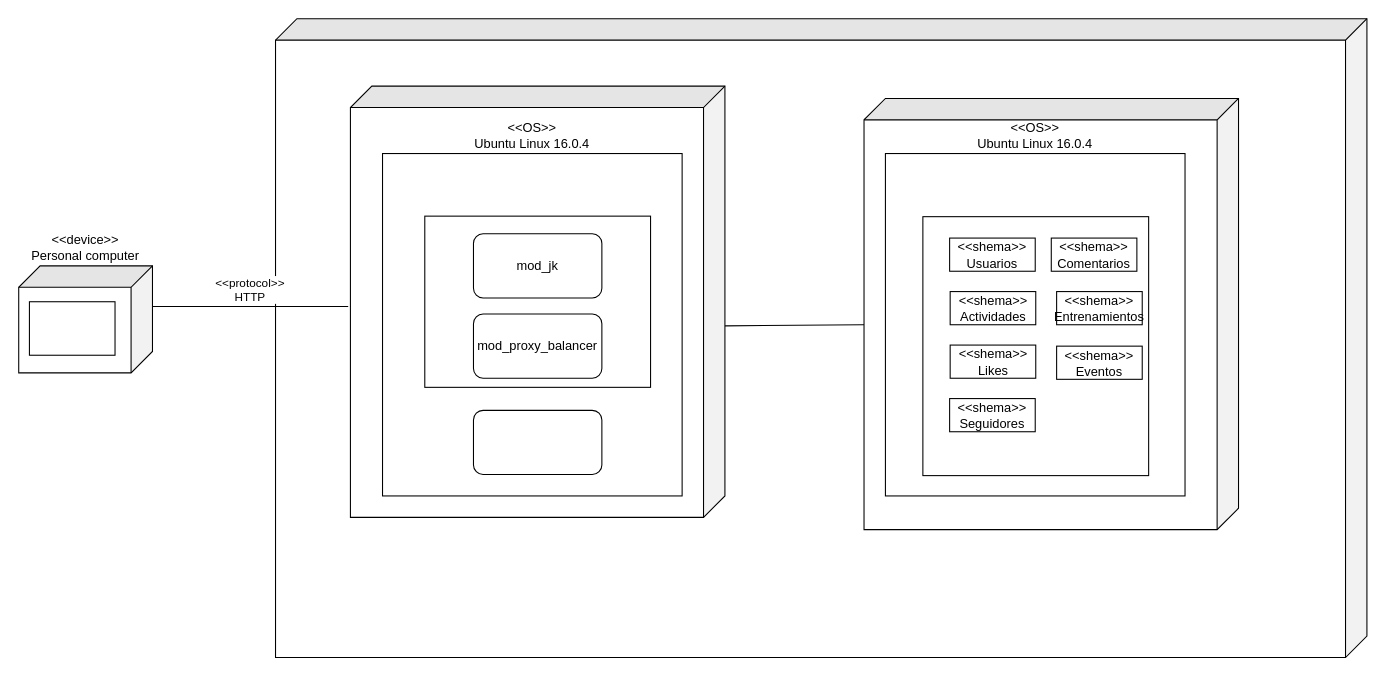
Image size: 1386x676. Some labels were removed from this diagram. Each missing label, with the box of its shape:
<<database system>> PostgreSQL 9.6: (922, 216, 1149, 476)
<<device>> Database: (863, 97, 1239, 530)
<<device>> Heroku Server: (349, 85, 725, 517)
<<web browser>>: (28, 301, 115, 355)
<<web server>> Apache HTTP Server 2.2: (424, 215, 651, 387)
static content: (472, 409, 602, 475)
